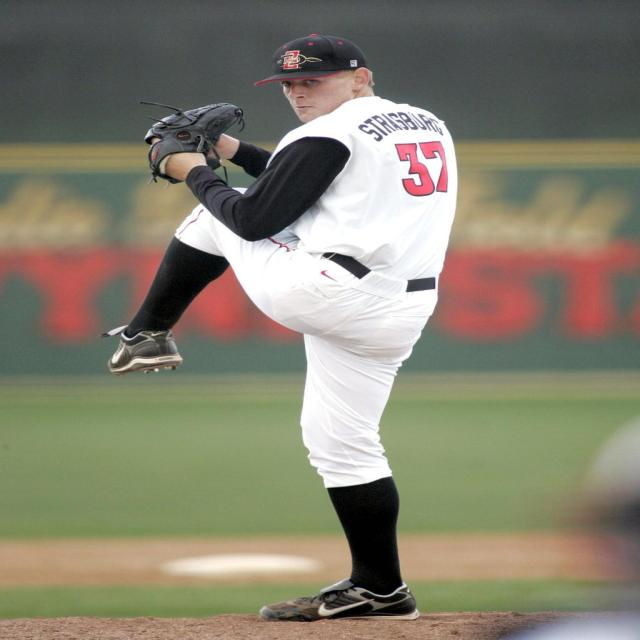Face: (281, 71, 354, 121)
